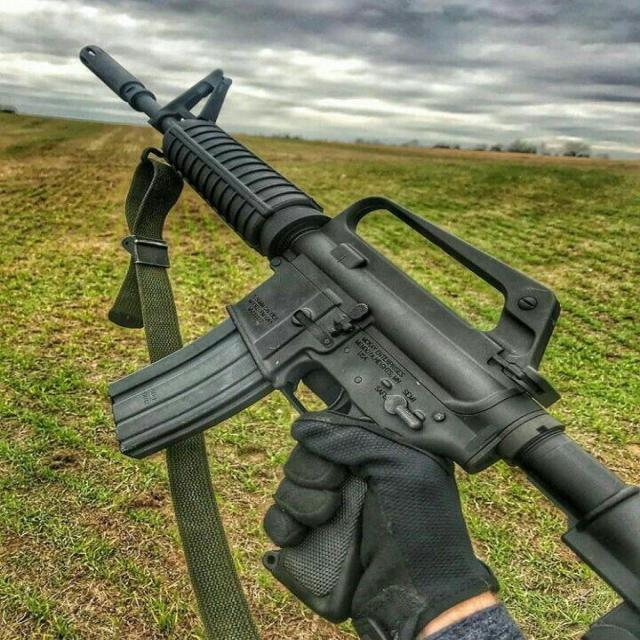rifle: (77, 46, 640, 608)
